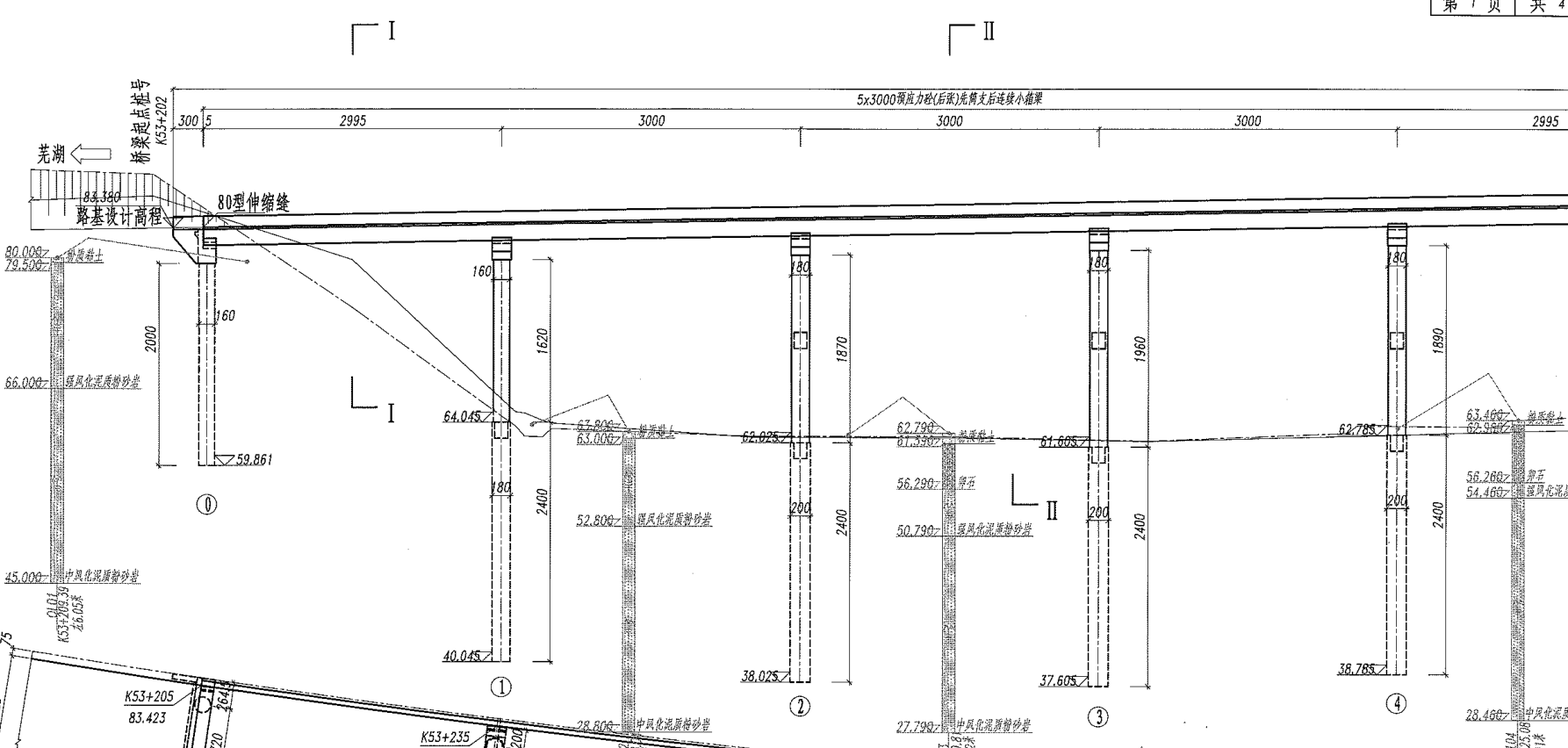B: (199, 91, 1568, 115)
C: (435, 248, 574, 708), (1331, 212, 1436, 721), (733, 227, 836, 722), (1035, 223, 1125, 733), (428, 227, 537, 623), (433, 225, 529, 468)
